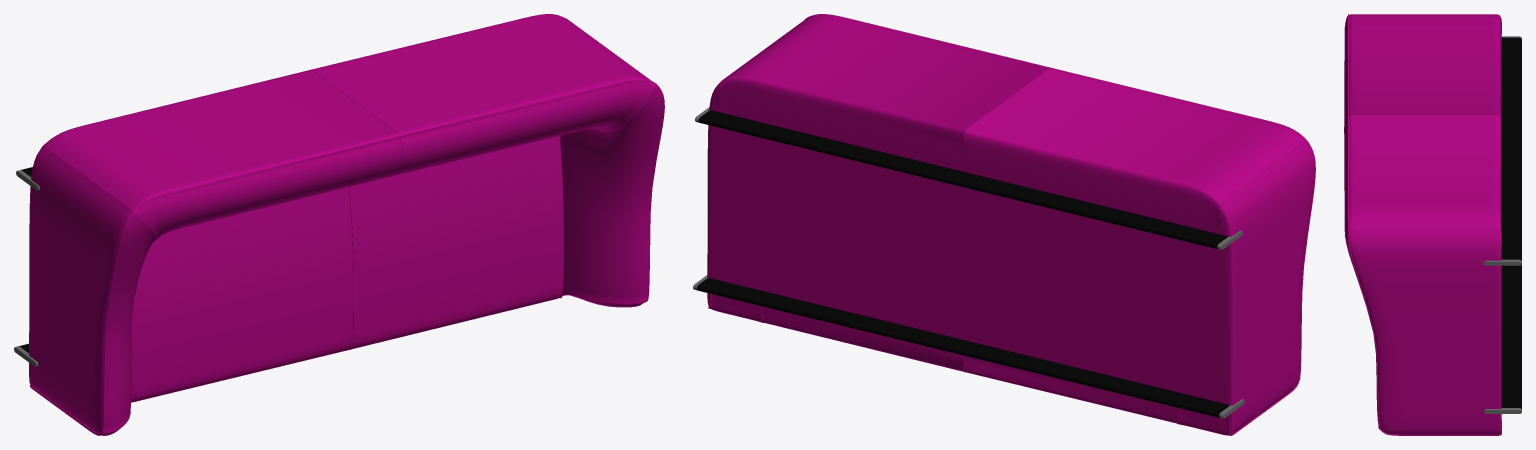
Rendered from ligne_roset_snowdonia_large_settee_main_01_obj.obj.
3 renders of one model, left to right at view 1: azimuth 30°, elevation 25°; view 2: azimuth 150°, elevation 25°; view 3: azimuth 270°, elevation 25°, orthographic. The views are drawn at different scales.
Visible parts, largest first — view 1: ligne_roset_snowdonia_large_settee; view 2: ligne_roset_snowdonia_large_settee; view 3: ligne_roset_snowdonia_large_settee.
Boxes of the visible parts, x1=… form: ligne_roset_snowdonia_large_settee: x1=14, y1=14, x2=664, y2=435; ligne_roset_snowdonia_large_settee: x1=693, y1=14, x2=1315, y2=435; ligne_roset_snowdonia_large_settee: x1=1344, y1=14, x2=1521, y2=435.
Bounding box in the file's own units: 211 × 92.78 × 70.02.
